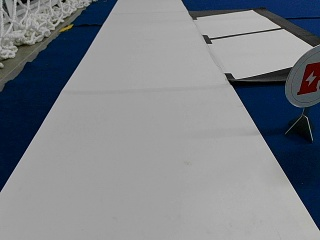battery: (286, 46, 319, 108)
